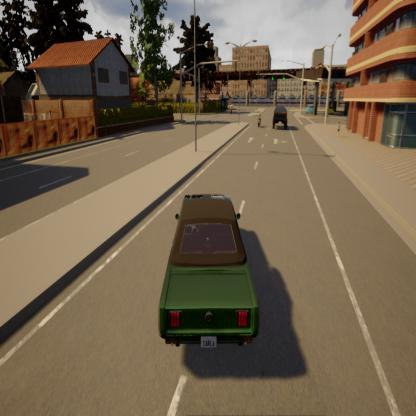Cars: (150, 182, 266, 366), (271, 99, 290, 133)
